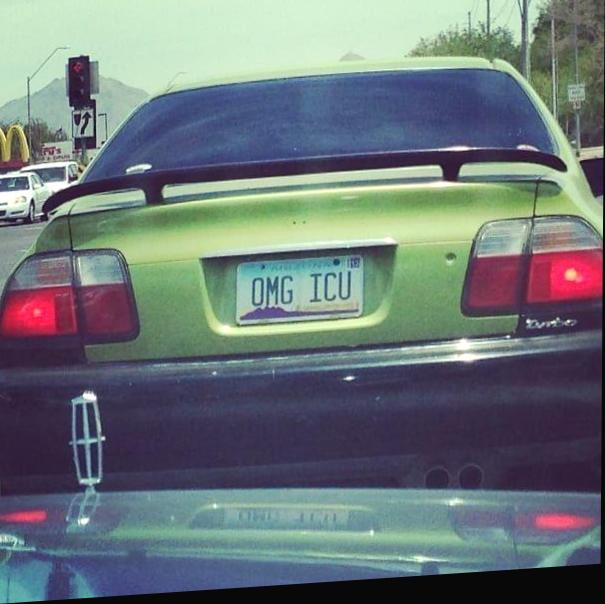License_Plate: (224, 245, 374, 339)
